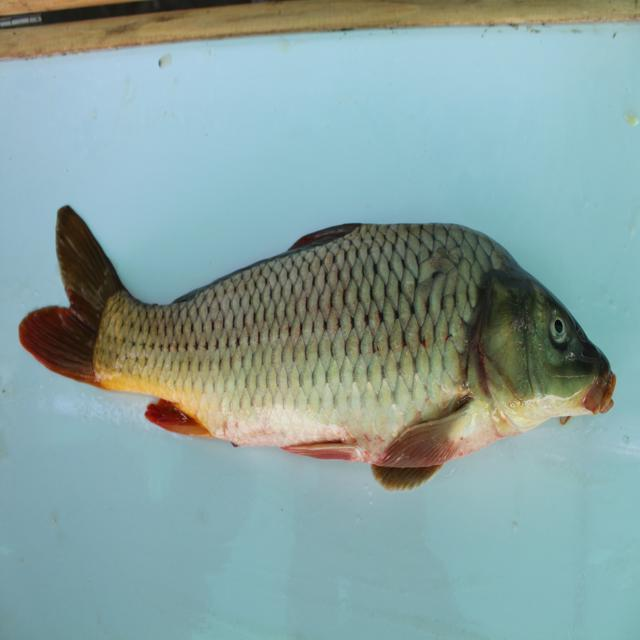CommonCarp: (18, 195, 637, 502)
